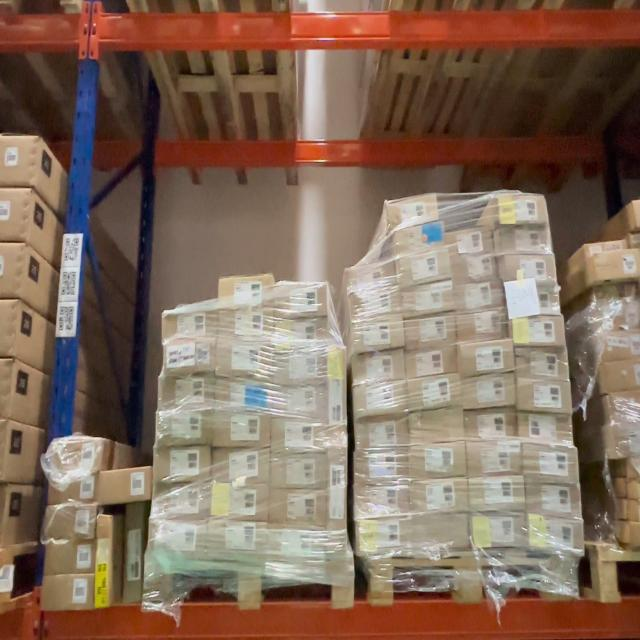box: (206, 523, 266, 560), (268, 489, 325, 526), (210, 483, 267, 519), (151, 521, 208, 557), (213, 411, 270, 447), (218, 341, 272, 379), (264, 530, 328, 562), (471, 475, 527, 511), (270, 452, 326, 488), (409, 442, 466, 477), (157, 410, 212, 446), (528, 518, 583, 554), (353, 450, 408, 486), (271, 350, 326, 386), (410, 478, 468, 512), (349, 317, 405, 352), (524, 446, 578, 482), (156, 447, 212, 481), (216, 379, 272, 413), (214, 448, 270, 482), (472, 515, 526, 550), (411, 517, 468, 550), (44, 574, 96, 610), (155, 483, 210, 517), (469, 442, 522, 477), (270, 385, 326, 418), (353, 384, 407, 418), (518, 380, 572, 414), (270, 419, 325, 452), (161, 377, 214, 411), (162, 341, 215, 375), (126, 504, 144, 604), (527, 483, 581, 516), (461, 342, 515, 375), (519, 414, 573, 447), (52, 440, 106, 473), (274, 282, 326, 316), (409, 411, 464, 443), (351, 352, 406, 384), (507, 283, 562, 315), (356, 484, 409, 517), (101, 468, 152, 502), (398, 252, 452, 284), (222, 274, 274, 307), (464, 376, 516, 409), (405, 315, 455, 349), (97, 510, 114, 610), (354, 416, 407, 448), (165, 308, 218, 340), (220, 307, 273, 339), (408, 378, 461, 410), (514, 316, 565, 349), (47, 506, 96, 540), (518, 349, 570, 381), (324, 349, 344, 432), (359, 522, 406, 557), (402, 283, 455, 314), (396, 224, 449, 255), (465, 410, 515, 442), (47, 542, 97, 574), (497, 224, 552, 253), (589, 250, 640, 281), (594, 290, 640, 324), (388, 198, 440, 228), (497, 193, 545, 225), (504, 254, 558, 282), (273, 317, 325, 346), (406, 348, 456, 378), (350, 288, 400, 318), (455, 281, 504, 311), (459, 311, 510, 339), (348, 263, 397, 292), (50, 475, 97, 505), (601, 361, 640, 394), (447, 228, 494, 255), (452, 255, 496, 282), (602, 332, 640, 360), (609, 423, 639, 456), (608, 393, 639, 423), (602, 552, 618, 606), (590, 240, 634, 254), (618, 520, 640, 546), (622, 501, 640, 521), (628, 199, 640, 228), (628, 458, 640, 481), (627, 479, 639, 498), (629, 231, 639, 249)
